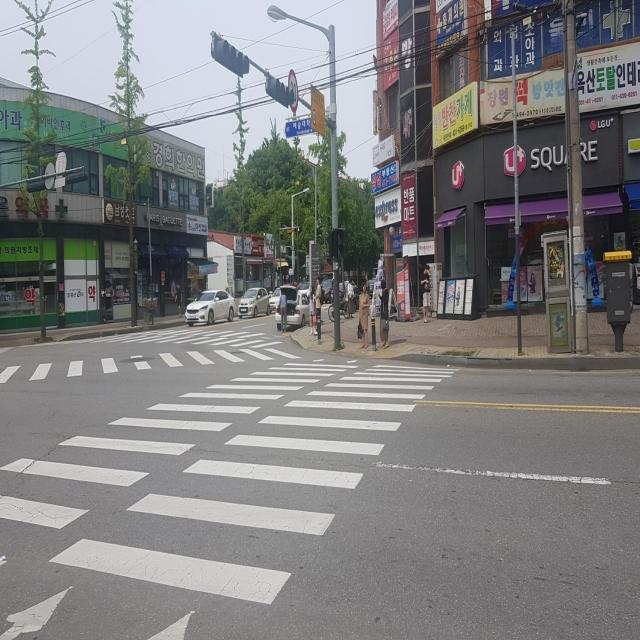횡단보도: (0, 354, 462, 640), (90, 323, 294, 348)
